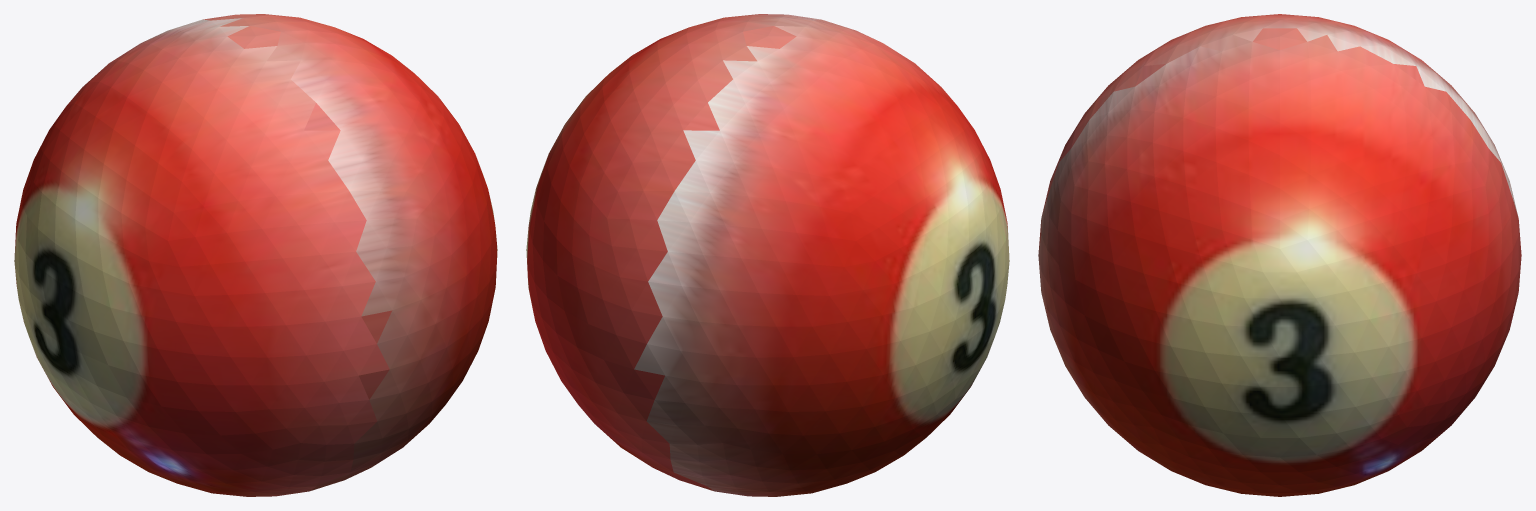
Rendered from balll_3.glb.
3 renders of one model, left to right at view 1: azimuth 30°, elevation 25°; view 2: azimuth 150°, elevation 25°; view 3: azimuth 270°, elevation 25°, orthographic.
Visible parts, largest first — view 1: Ball_1; view 2: Ball_1; view 3: Ball_1.
Part boxes in pixels (bbox=[...]): Ball_1: bbox=[14, 14, 497, 496]; Ball_1: bbox=[526, 14, 1009, 496]; Ball_1: bbox=[1038, 14, 1521, 496].
Bounding box in the file's own units: 2 × 2 × 2.
Materials: 1 (1 with a texture image).
